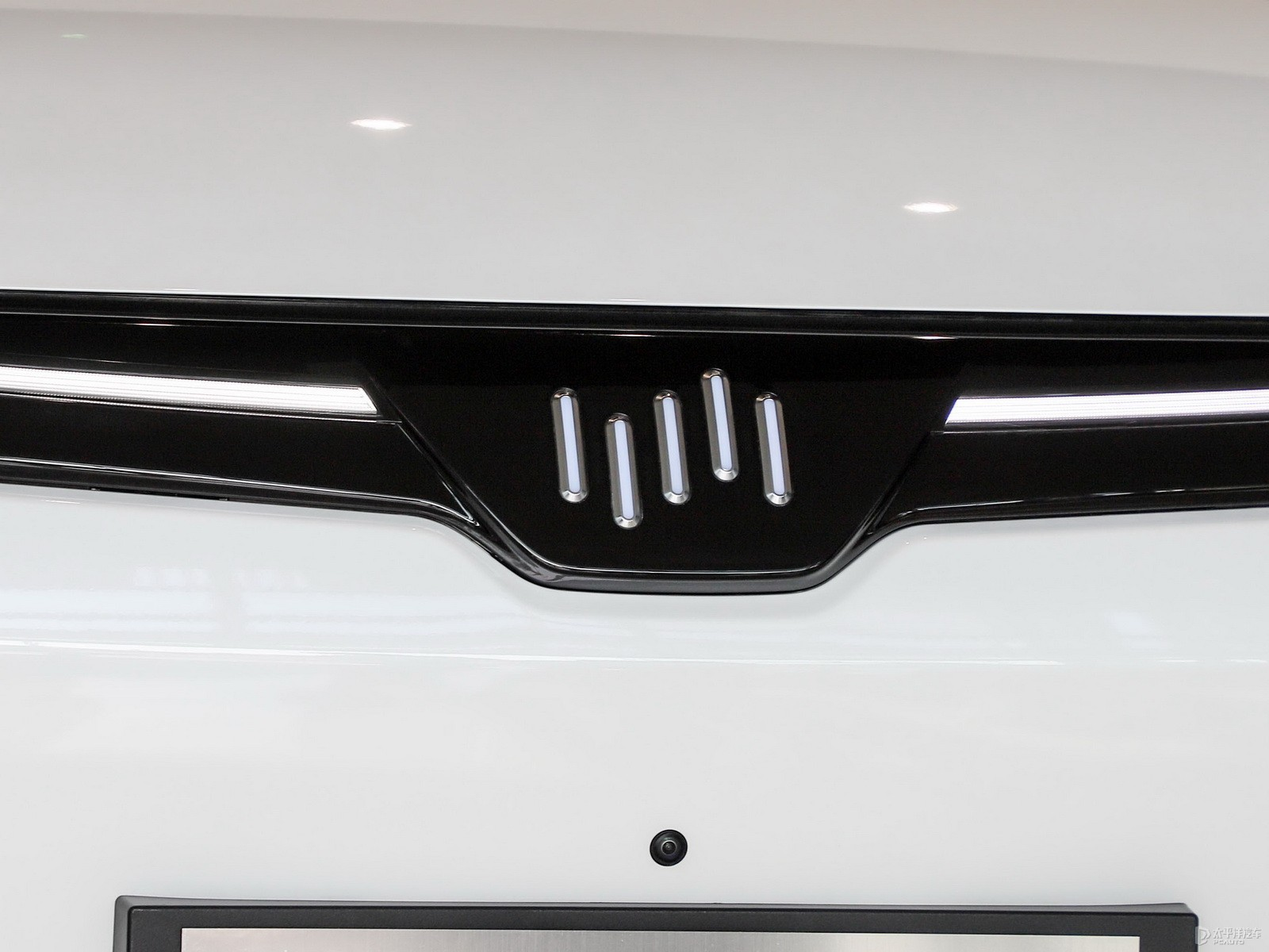WELTMEISTER: (553, 370, 792, 526)
